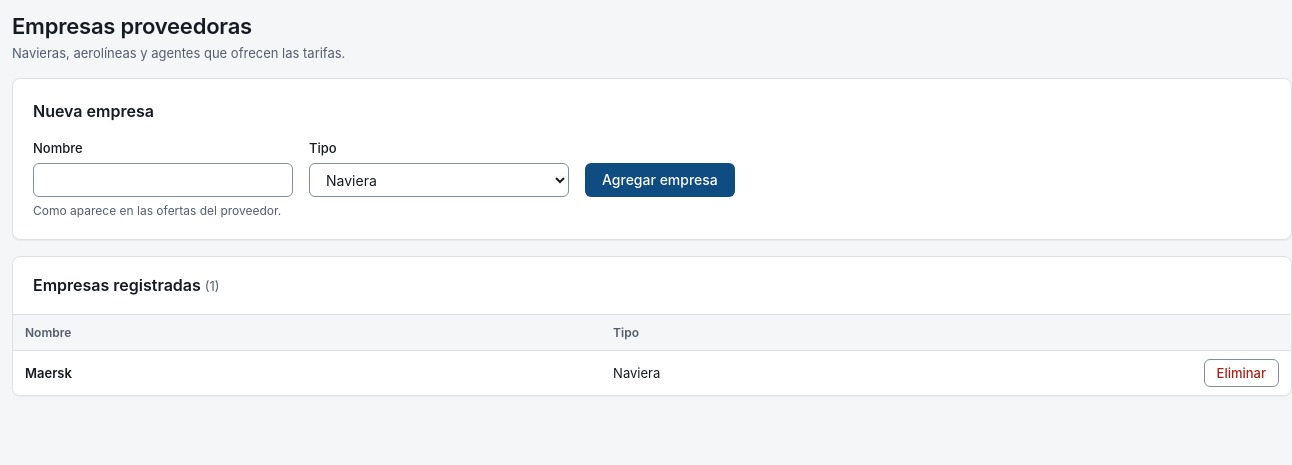
Scenario: EmpresasPage › muestra el error del backend al crear
Type "X" into the field labelled "Nombre" at (163, 180), box [33,163,293,197]
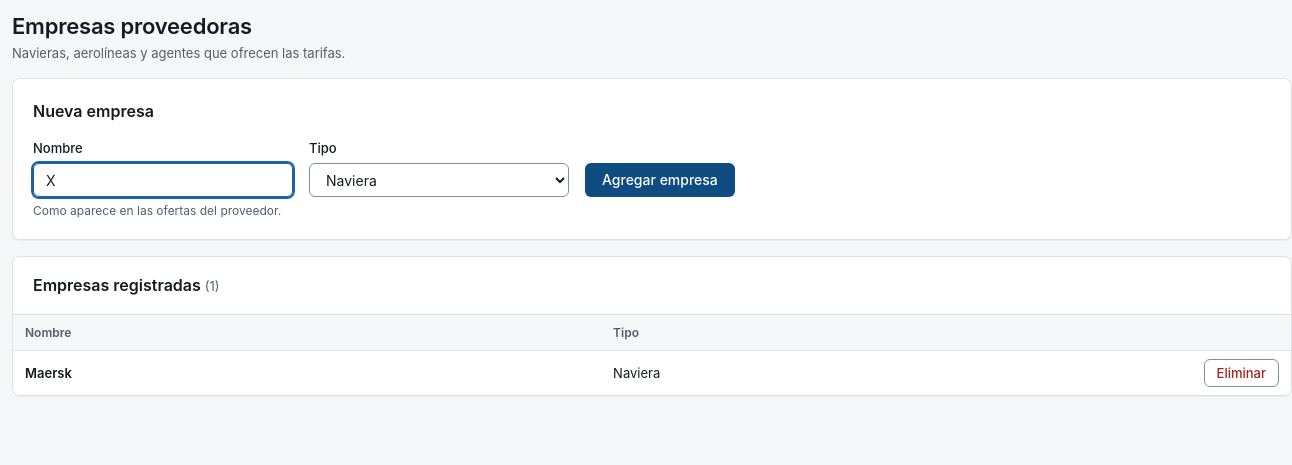
Click the button "Agregar empresa" at (660, 180), box [585,163,735,197]
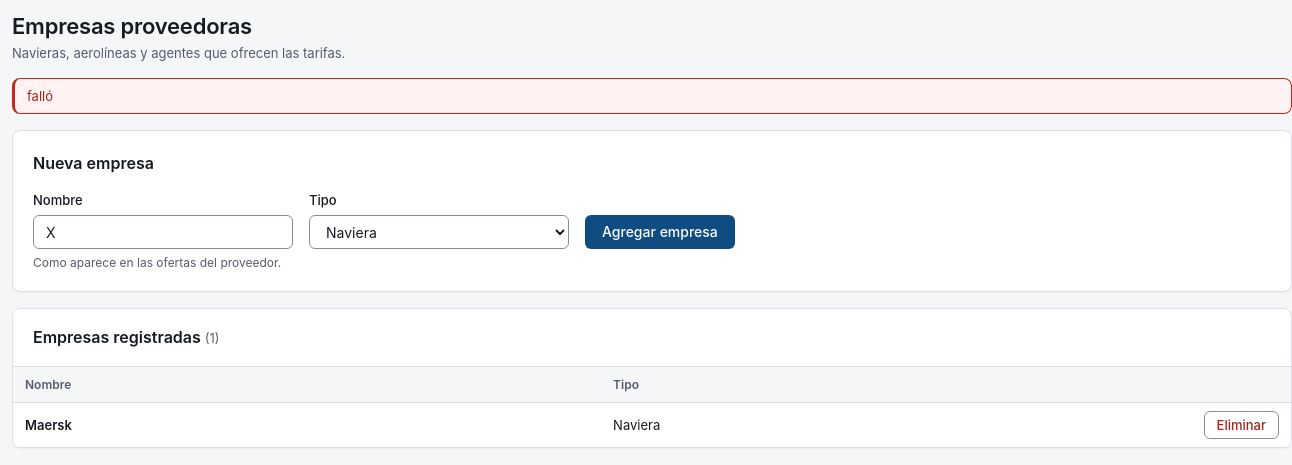
Now the text "falló" is shown, box [12,78,1291,114]
